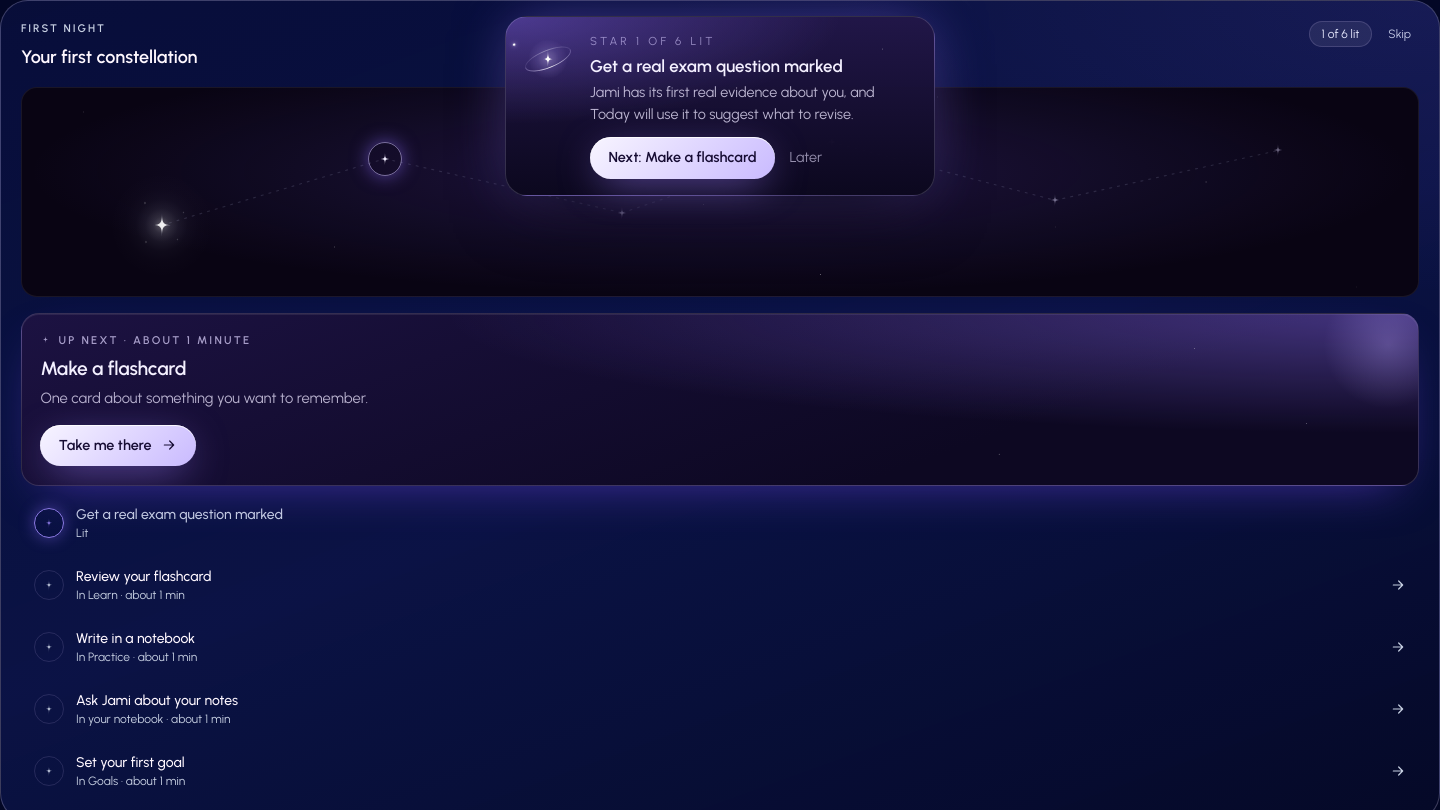
Test: a star lighting › goes away by itself, but not while it is being read
Step 1. Hover over the message with class "fn-bloom" → (720, 106), box [505,16,935,196]
Step 2. Move the pointer off the message with class "fn-bloom", box [505,16,935,196]
Wait 10000 ms
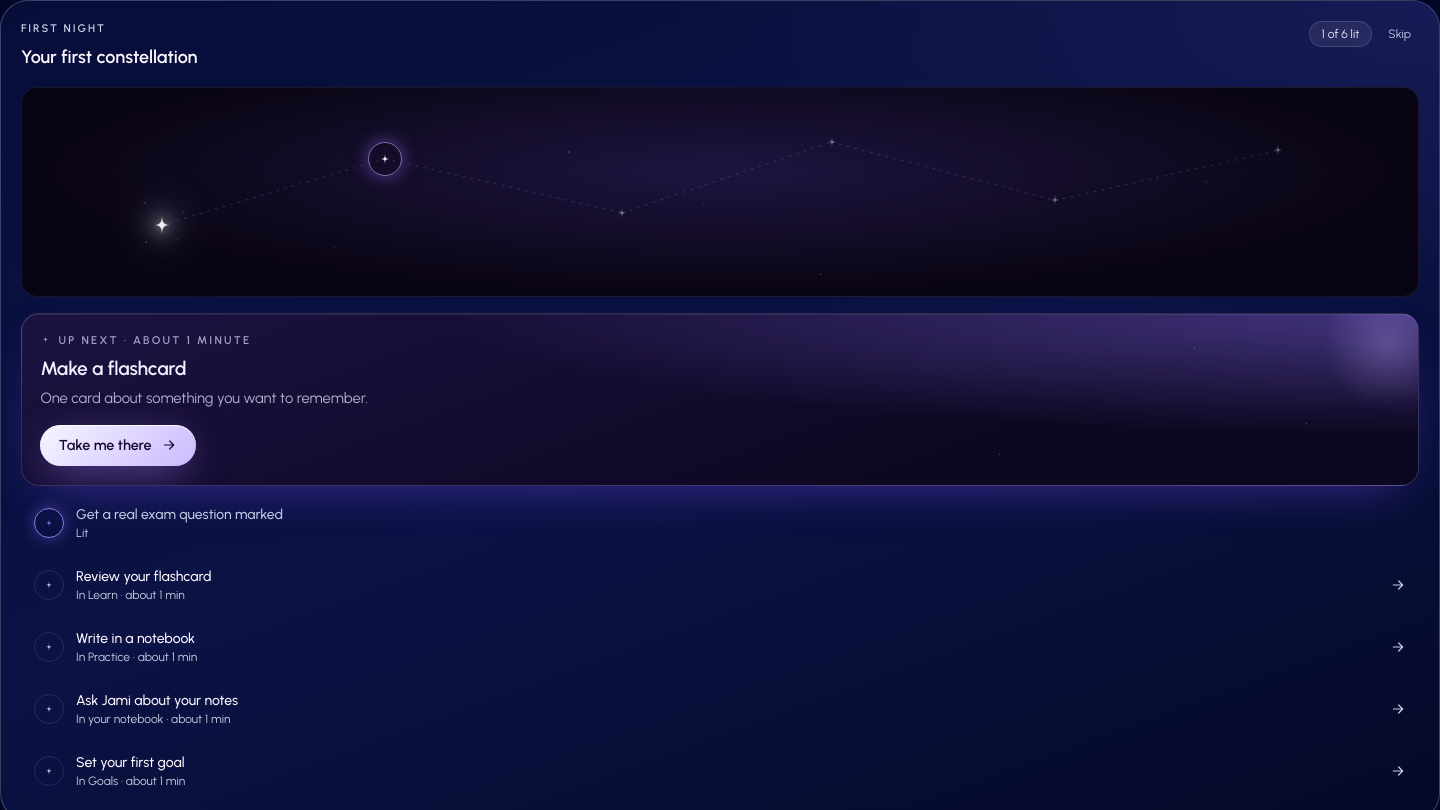
Now the message with class "fn-bloom" is gone
